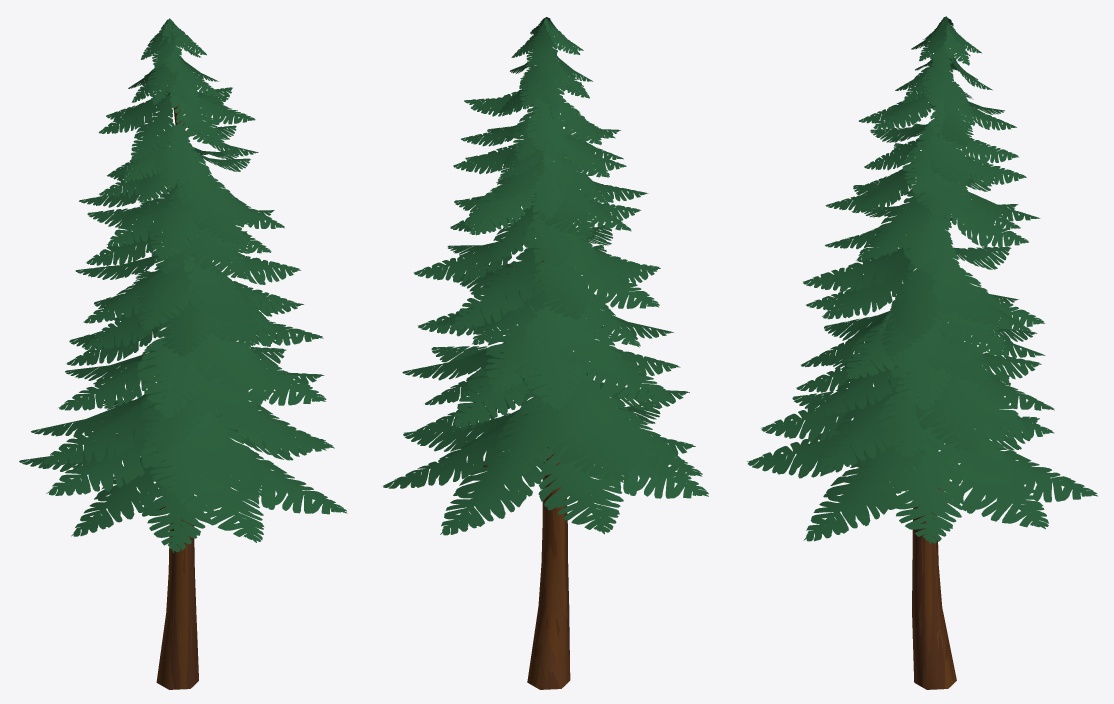
File: pine_02.glb
3 renders of one model, left to right at view 1: azimuth 30°, elevation 25°; view 2: azimuth 150°, elevation 25°; view 3: azimuth 270°, elevation 25°, orthographic.
Parts seen in each view (by area): view 1: pine_02; view 2: pine_02; view 3: pine_02.
Part boxes in pixels (x1,y1,x2,y2): pine_02: (19, 18, 347, 689); pine_02: (383, 17, 708, 689); pine_02: (747, 16, 1097, 689).
Size of the model in its own units: 5.82 by 12.72 by 6.15.
2 materials, 2 textured.
